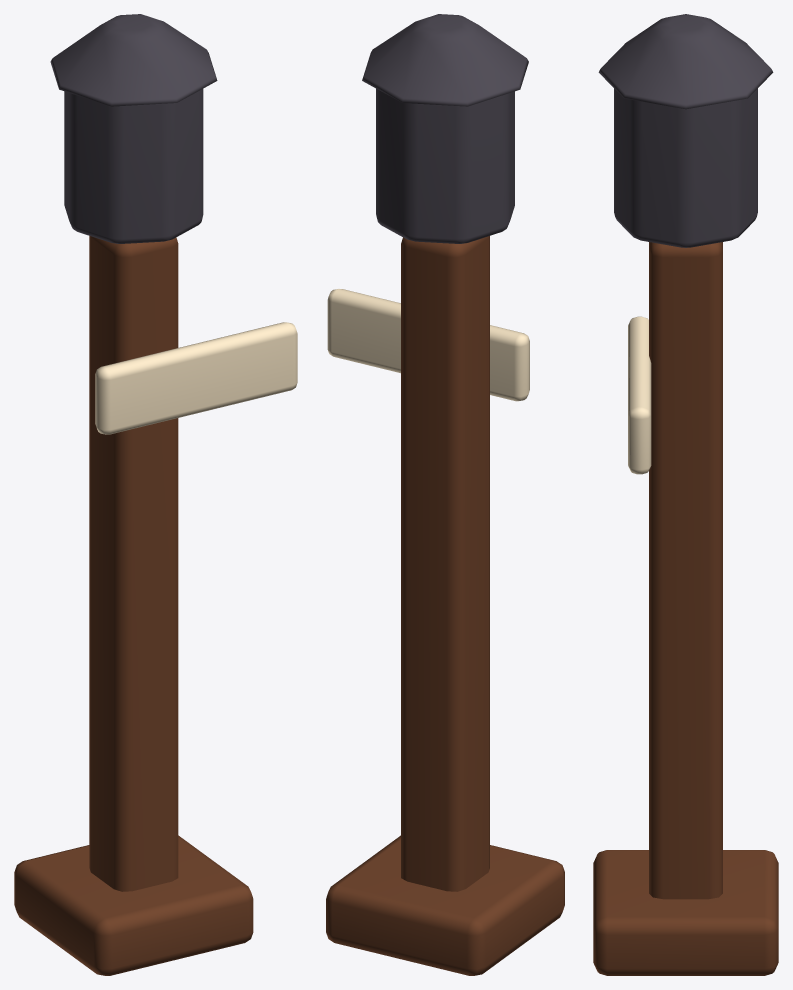
The model's file is gulch_exit_lantern.glb.
The picture shows the model from 3 angles, left to right: view 1: azimuth 30°, elevation 25°; view 2: azimuth 150°, elevation 25°; view 3: azimuth 270°, elevation 25°; orthographic projection.
Parts seen in each view (by area): view 1: ExitLantern; view 2: ExitLantern; view 3: ExitLantern.
Boxes of the visible parts, x1,y1,x2,y2 form: ExitLantern: (14, 14, 297, 975); ExitLantern: (326, 14, 564, 975); ExitLantern: (593, 14, 778, 975).
Bounding box in the file's own units: 0.55 × 2.19 × 0.4.
